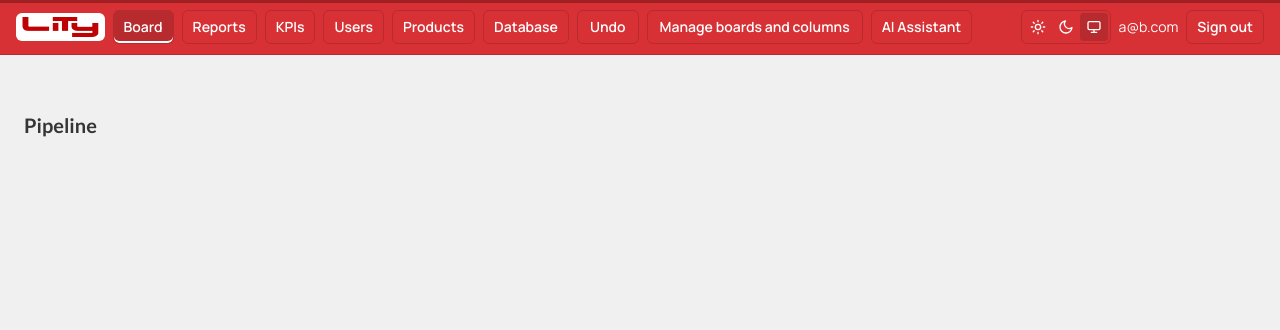
Test: CentralApp sections › opens Products from the top navigation for the Super Admin, shows the catalog and returns to the board
Expected: the element with test id "central-board" is shown, [24,113,97,137]
Click the button "Products" at {"x": 434, "y": 27}, box [392,10,475,44]
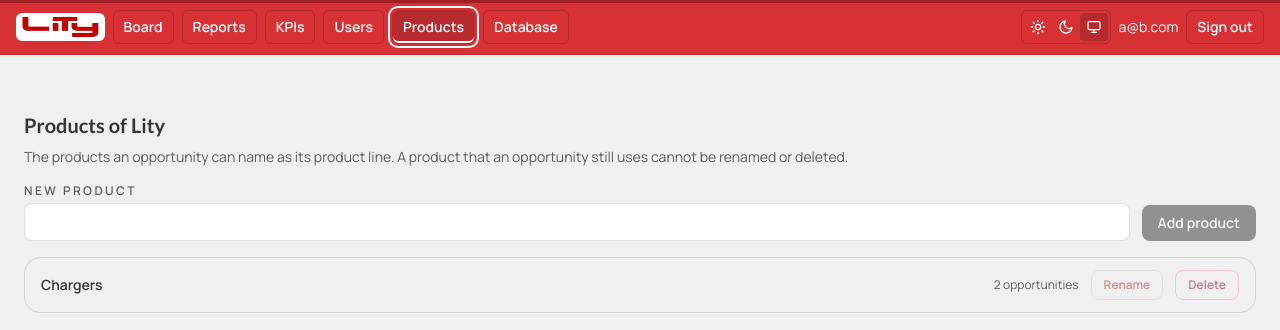
Expected: the text "Chargers" is shown, [41,275,102,294]
Expected: the button "Add product" is shown, [1142,205,1256,241]
Expected: the element with test id "central-board" is gone
Click the button "Board" at {"x": 143, "y": 27}, box [112,10,174,44]
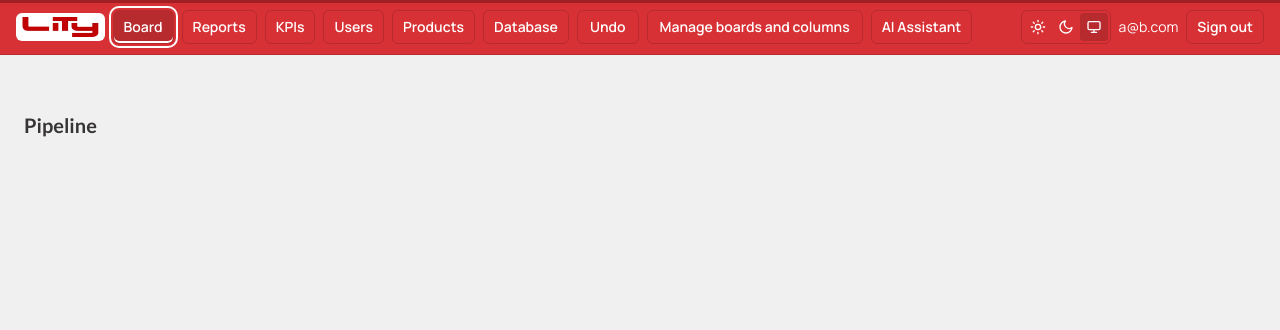
Expected: the element with test id "central-board" is shown, [24,113,97,137]
